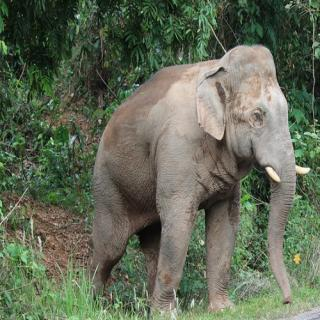Elephant: (85, 38, 316, 320)
